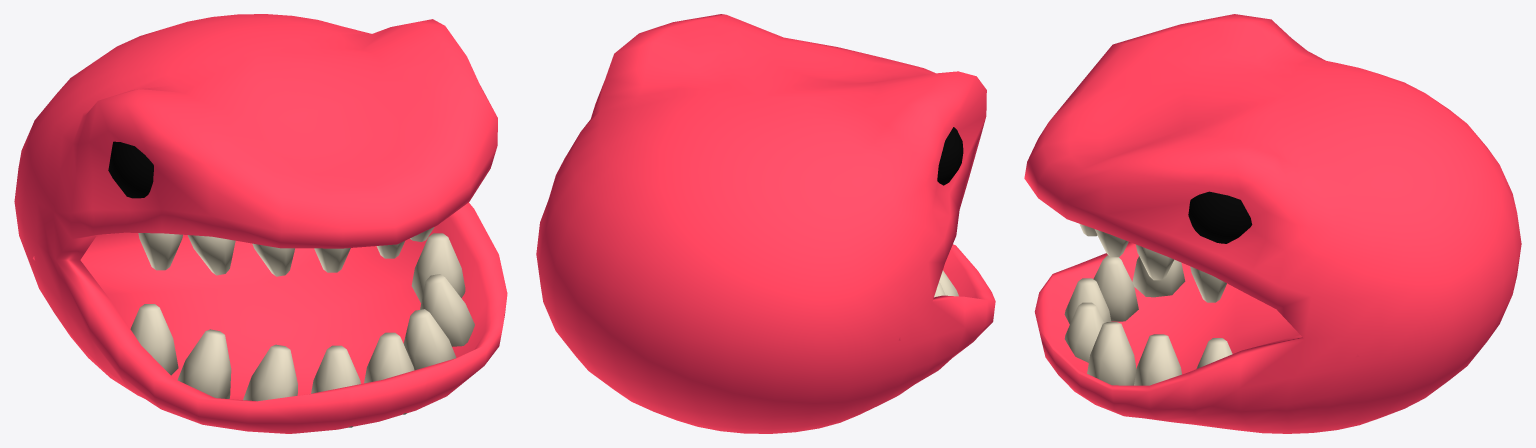
File: plant.glb
The picture shows the model from 3 angles, left to right: view 1: azimuth 30°, elevation 25°; view 2: azimuth 150°, elevation 25°; view 3: azimuth 270°, elevation 25°; orthographic projection. The views are drawn at different scales.
Visible parts, largest first — view 1: Sphere; view 2: Sphere; view 3: Sphere.
Part boxes in pixels (box(x1,y1,x2,y2)): Sphere: box(14, 14, 507, 433); Sphere: box(536, 14, 995, 433); Sphere: box(1024, 14, 1521, 433).
Size of the model in its own units: 1.78 by 1.51 by 2.12.
